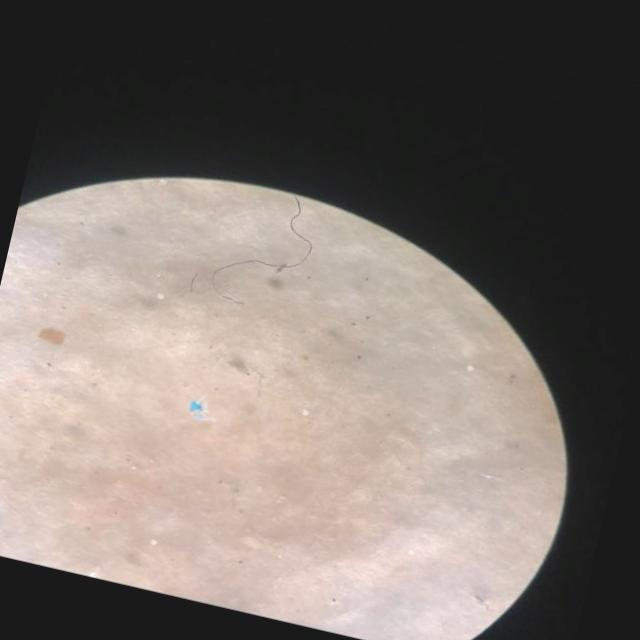fiber: (213, 196, 312, 280)
film: (189, 402, 204, 419)
fragment: (38, 327, 64, 344)
pellet: (150, 538, 158, 545), (157, 293, 164, 299), (468, 364, 473, 371), (302, 409, 309, 414), (409, 549, 414, 554)
